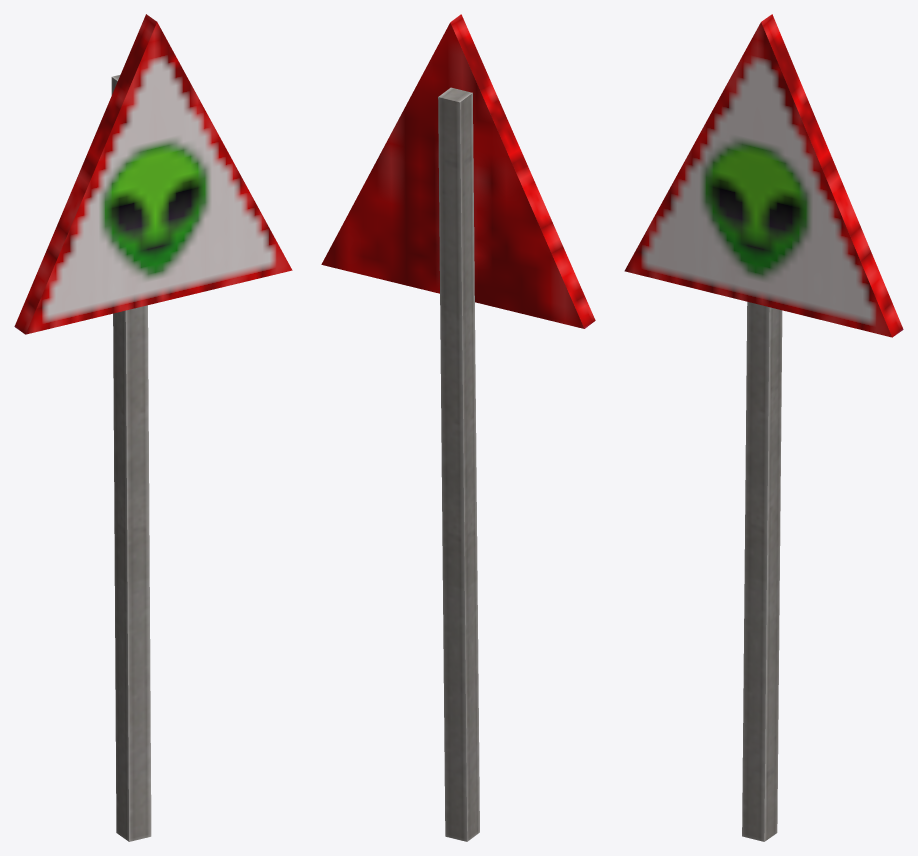
File: Colony_Alien_Sign_Art.fbx
3 renders of one model, left to right at view 1: azimuth 30°, elevation 25°; view 2: azimuth 150°, elevation 25°; view 3: azimuth 330°, elevation 25°, orthographic.
Parts seen in each view (by area): view 1: Colony_Alien_Sign_Art; view 2: Colony_Alien_Sign_Art; view 3: Colony_Alien_Sign_Art.
Boxes of the visible parts, <box> form: Colony_Alien_Sign_Art: <box>14,14,292,841</box>; Colony_Alien_Sign_Art: <box>321,14,595,841</box>; Colony_Alien_Sign_Art: <box>624,14,903,841</box>.
Bounding box in the file's own units: 105 × 307 × 17.68.
